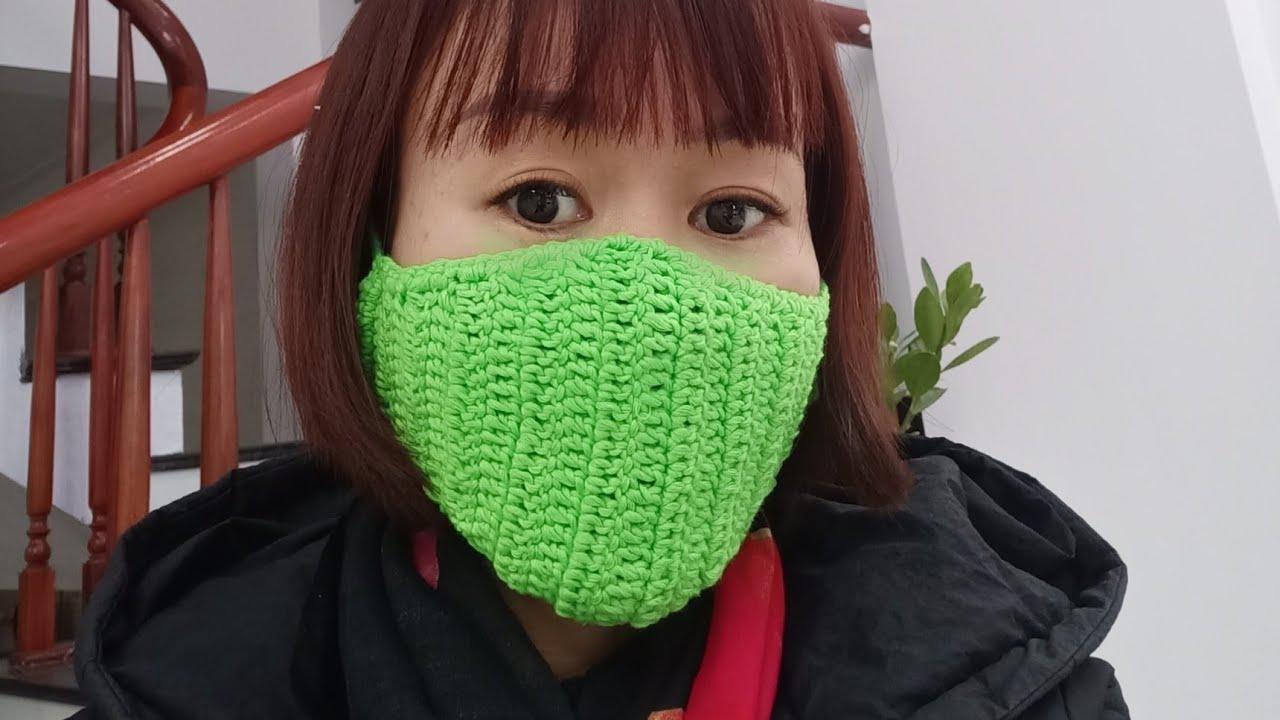OK: (404, 75, 821, 561)
